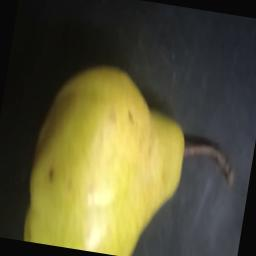Pear Unripe: (14, 53, 248, 256)
